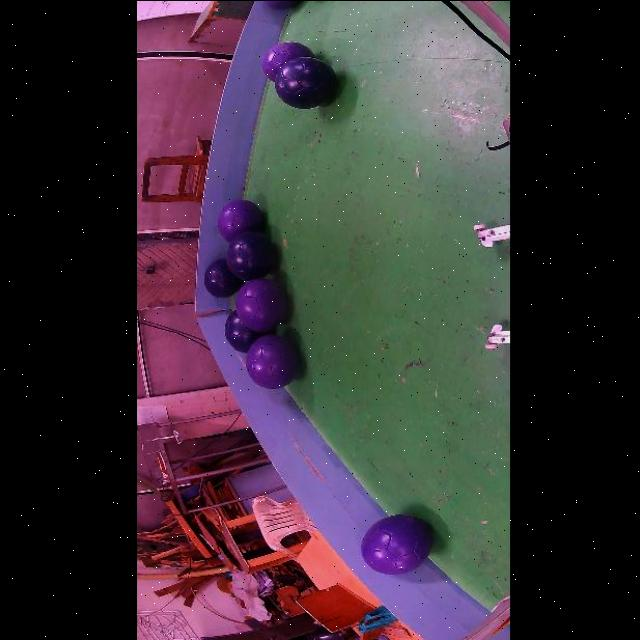B: (274, 56, 336, 108), (226, 230, 275, 279), (224, 311, 266, 352), (204, 259, 243, 298)
P: (361, 515, 432, 574), (245, 334, 298, 389), (235, 278, 287, 331), (217, 199, 263, 242), (261, 41, 312, 79), (263, 0, 301, 8)
